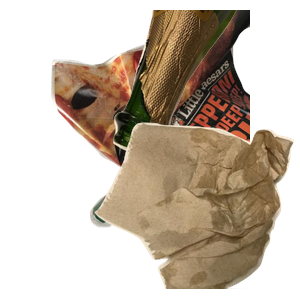glass: (111, 10, 300, 158)
paper: (49, 10, 289, 190)
plastic: (88, 182, 242, 300)
trash: (92, 120, 300, 300)
